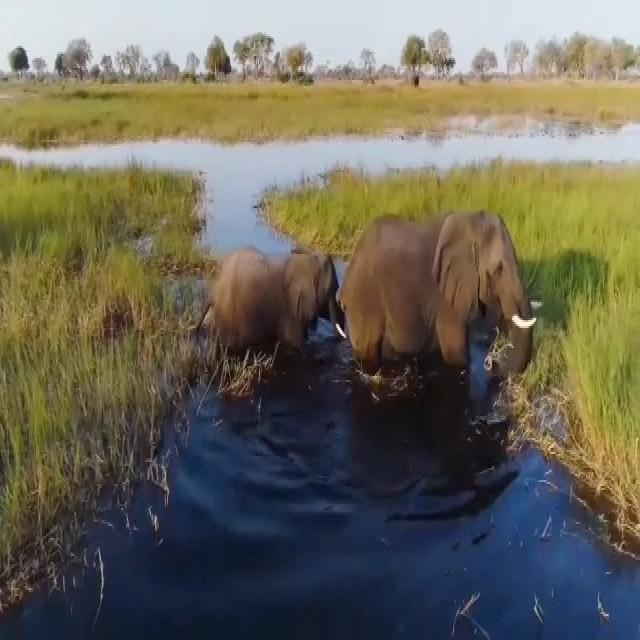Elephant: (341, 209, 543, 387), (208, 229, 338, 369)
